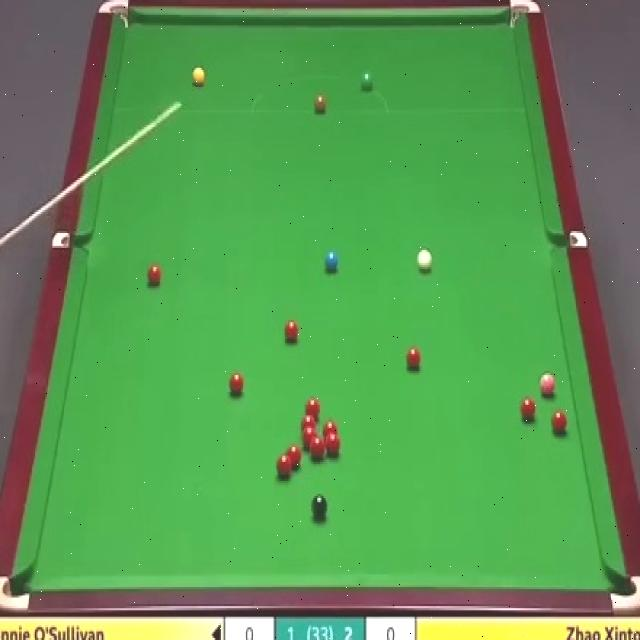black-ball: (311, 492, 328, 523)
blue-ball: (324, 249, 339, 272)
brown-ball: (313, 93, 327, 114)
green-ball: (359, 72, 374, 92)
pink-ball: (539, 371, 556, 398)
red-ball: (228, 370, 245, 400), (275, 454, 293, 480), (286, 447, 304, 472), (521, 397, 539, 422), (406, 346, 422, 372), (551, 411, 569, 434), (325, 433, 341, 458), (283, 321, 300, 344), (148, 264, 162, 288), (310, 436, 324, 460), (303, 398, 321, 415), (300, 414, 316, 431), (302, 428, 316, 447), (323, 422, 338, 437)
white-ball: (415, 246, 431, 272)
yellow-ball: (192, 67, 206, 89)
